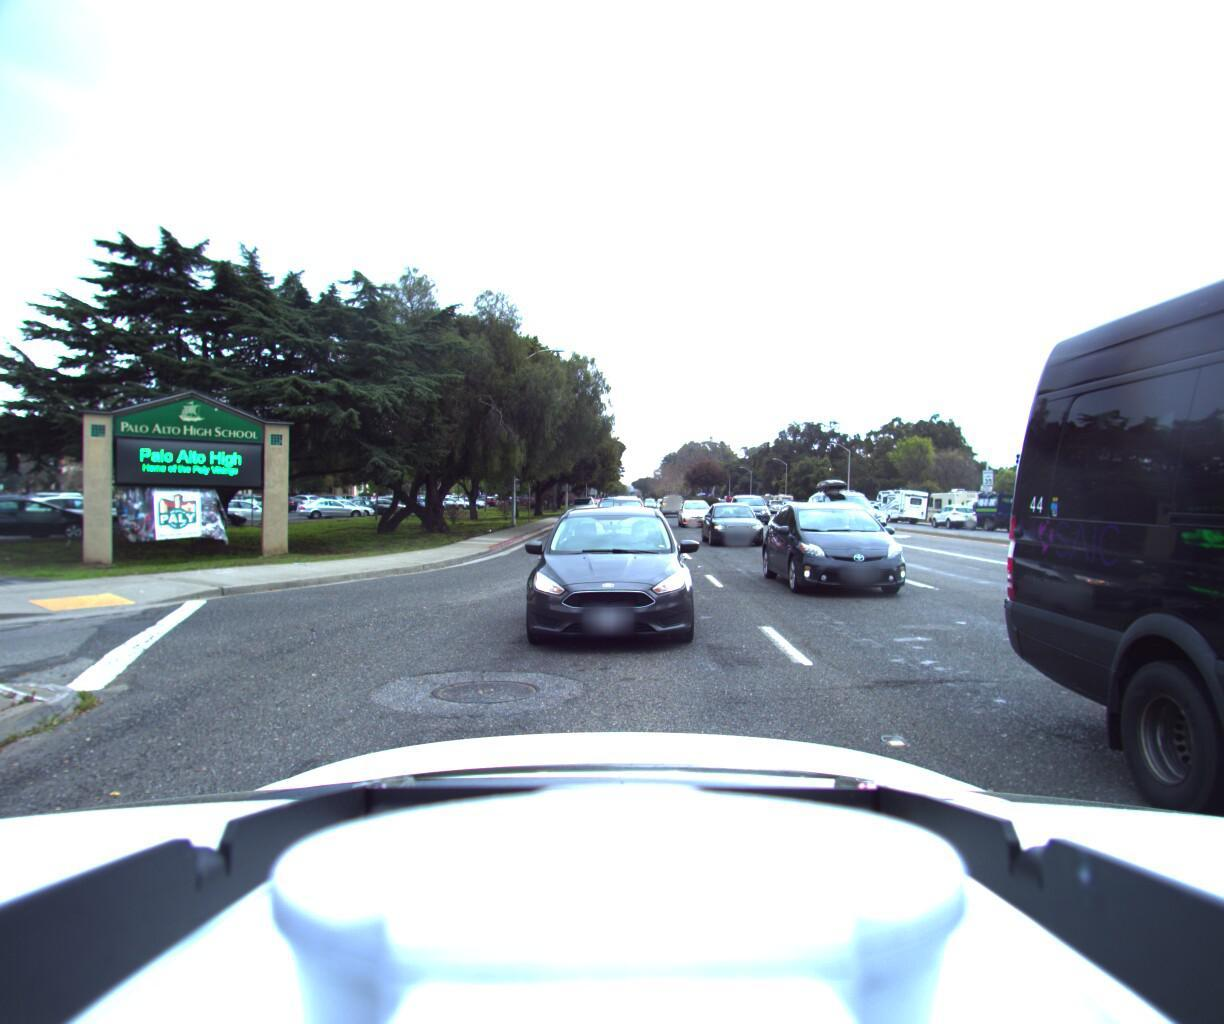car: (513, 503, 698, 662), (757, 497, 933, 607), (803, 475, 905, 551), (698, 501, 768, 550), (588, 497, 651, 549), (730, 497, 776, 531), (927, 504, 978, 529), (674, 500, 715, 530), (568, 496, 597, 520), (657, 495, 686, 518), (760, 500, 784, 517)
other_vehicle: (923, 487, 987, 530), (871, 489, 930, 525)
truck: (961, 490, 1034, 532)
